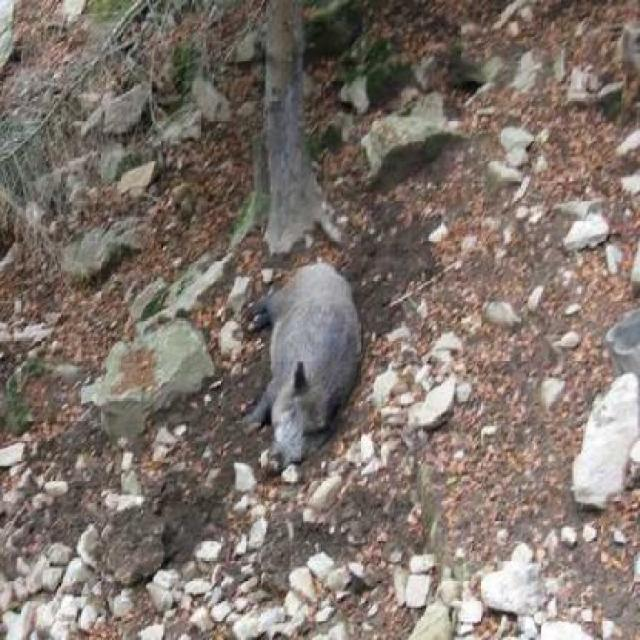pig: (256, 250, 386, 472)
